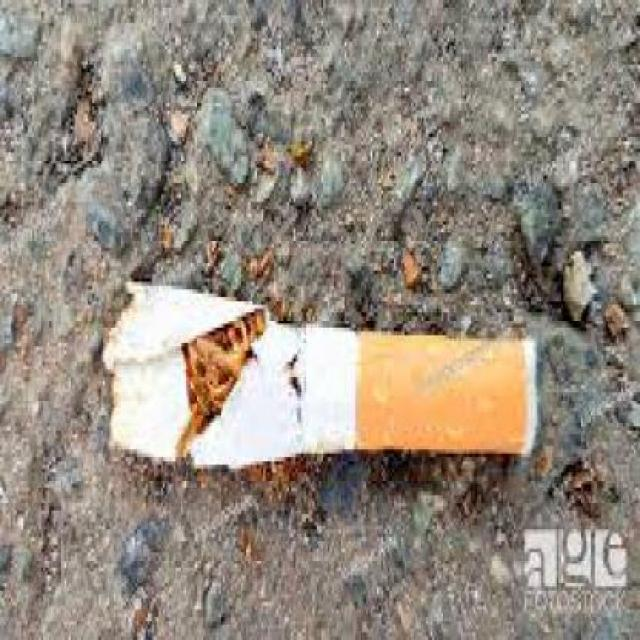cigarette: (64, 328, 562, 454)
